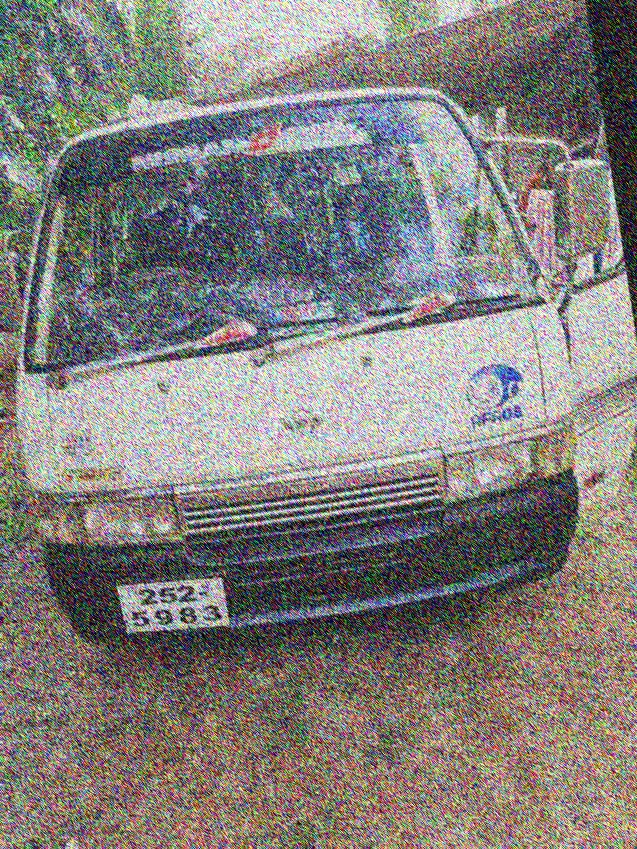van: (0, 25, 615, 696)
